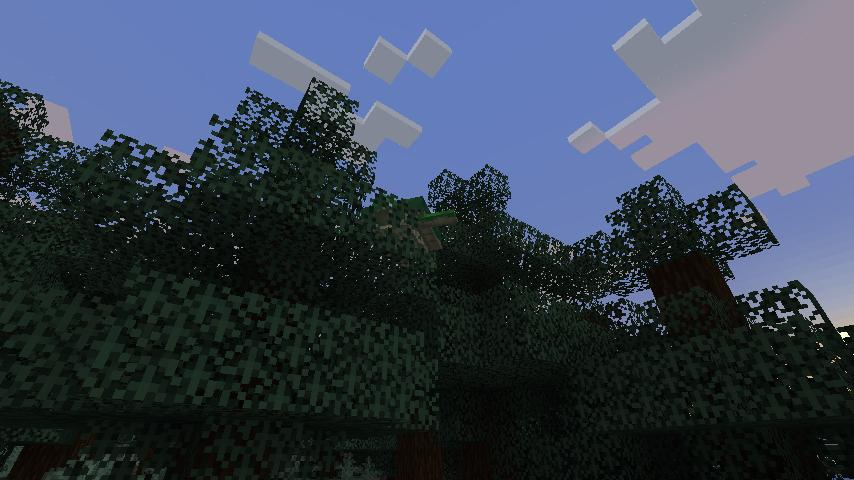turtle: (359, 186, 460, 259)
